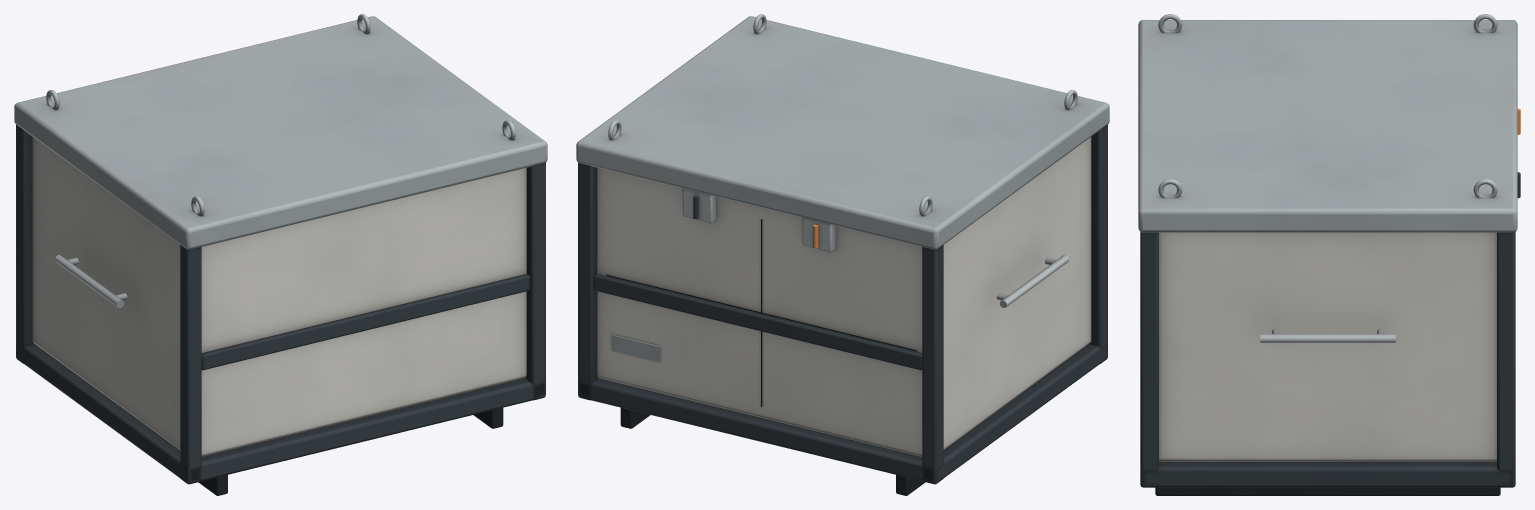
The model's file is precursor_crate_small.glb.
3 views of the same model, side by side, from view 1: azimuth 30°, elevation 25°; view 2: azimuth 150°, elevation 25°; view 3: azimuth 270°, elevation 25° (orthographic). The views are drawn at different scales.
Visible parts, largest first — view 1: body_shell_white, lid_panel_cool, base_frame_graphite, rail_b_frame_graphite, post_lb_frame_graphite, post_rb_frame_graphite, post_lf_frame_graphite, end_handle_l_satin_alloy; view 2: body_shell_white, lid_panel_cool, base_frame_graphite, rail_f_frame_graphite, post_lf_frame_graphite, post_rf_frame_graphite, post_lb_frame_graphite, front_seams_deep_graphite, latch_1_body_satin_alloy, latch_0_body_satin_alloy, end_handle_l_satin_alloy, crate_tag_plate_panel_cool; view 3: lid_panel_cool, body_shell_white, base_frame_graphite, post_rb_frame_graphite, post_rf_frame_graphite, skid_r_deep_graphite, end_handle_r_satin_alloy.
Boxes of the visible parts, <box> form: body_shell_white: <box>32,137,526,456</box>; lid_panel_cool: <box>14,16,547,249</box>; base_frame_graphite: <box>17,344,543,481</box>; rail_b_frame_graphite: <box>201,274,530,370</box>; post_lb_frame_graphite: <box>180,245,201,484</box>; post_rb_frame_graphite: <box>525,162,545,400</box>; post_lf_frame_graphite: <box>16,124,34,363</box>; end_handle_l_satin_alloy: <box>55,255,127,307</box>; body_shell_white: <box>597,137,1091,456</box>; lid_panel_cool: <box>576,16,1109,249</box>; base_frame_graphite: <box>580,344,1106,481</box>; rail_f_frame_graphite: <box>593,274,922,370</box>; post_lf_frame_graphite: <box>922,245,943,484</box>; post_rf_frame_graphite: <box>578,162,598,400</box>; post_lb_frame_graphite: <box>1089,124,1107,363</box>; front_seams_deep_graphite: <box>606,219,917,406</box>; latch_1_body_satin_alloy: <box>682,188,716,223</box>; latch_0_body_satin_alloy: <box>802,217,835,252</box>; end_handle_l_satin_alloy: <box>996,255,1068,307</box>; crate_tag_plate_panel_cool: <box>612,334,659,361</box>; lid_panel_cool: <box>1138,20,1517,232</box>; body_shell_white: <box>1159,232,1496,461</box>; base_frame_graphite: <box>1144,462,1511,487</box>; post_rb_frame_graphite: <box>1140,232,1158,487</box>; post_rf_frame_graphite: <box>1497,232,1515,487</box>; skid_r_deep_graphite: <box>1155,487,1500,495</box>; end_handle_r_satin_alloy: <box>1260,329,1395,342</box>.
Size of the model in its own units: 1.3 by 0.952 by 1.02.
2 materials, 1 textured.
